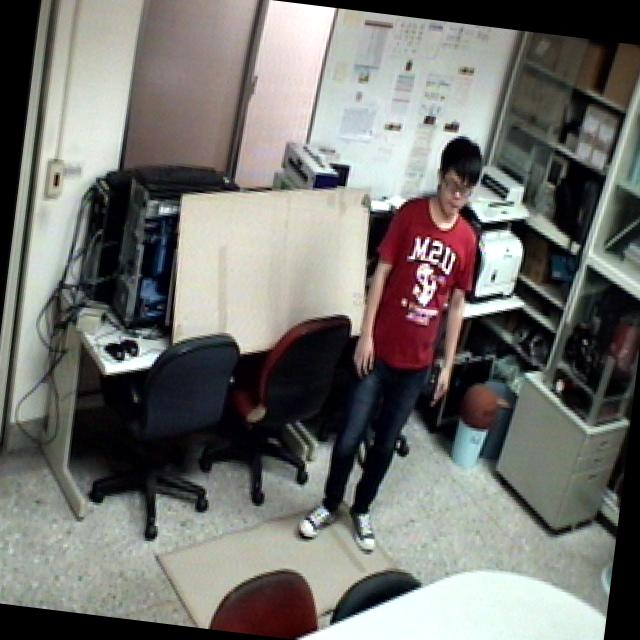stand: (288, 114, 508, 567)
